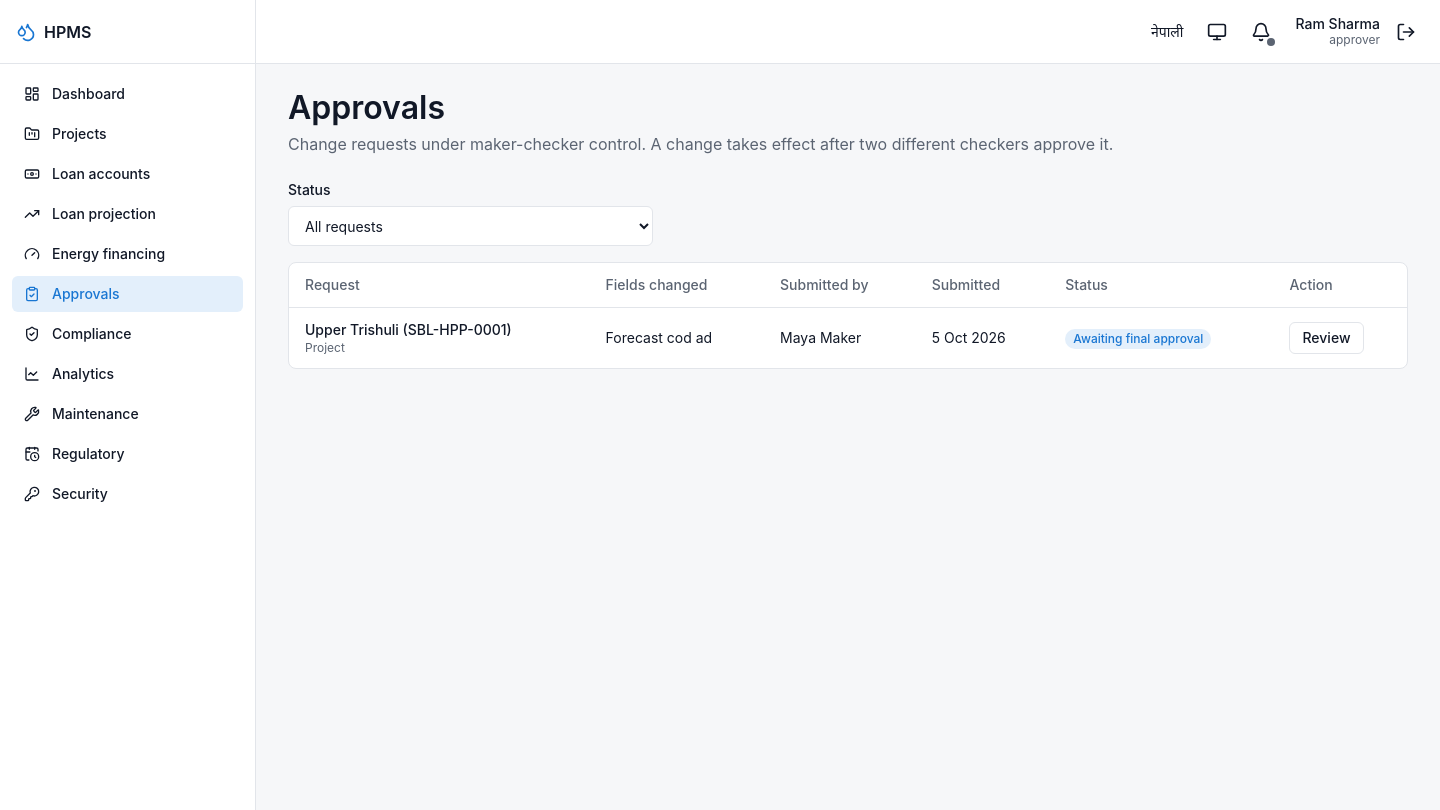
ApprovalQueuePage › keeps the dialog open and shows the server reason when a decision is refused
Click the button "Review" at (1326, 338), box [1290,322,1364,354]
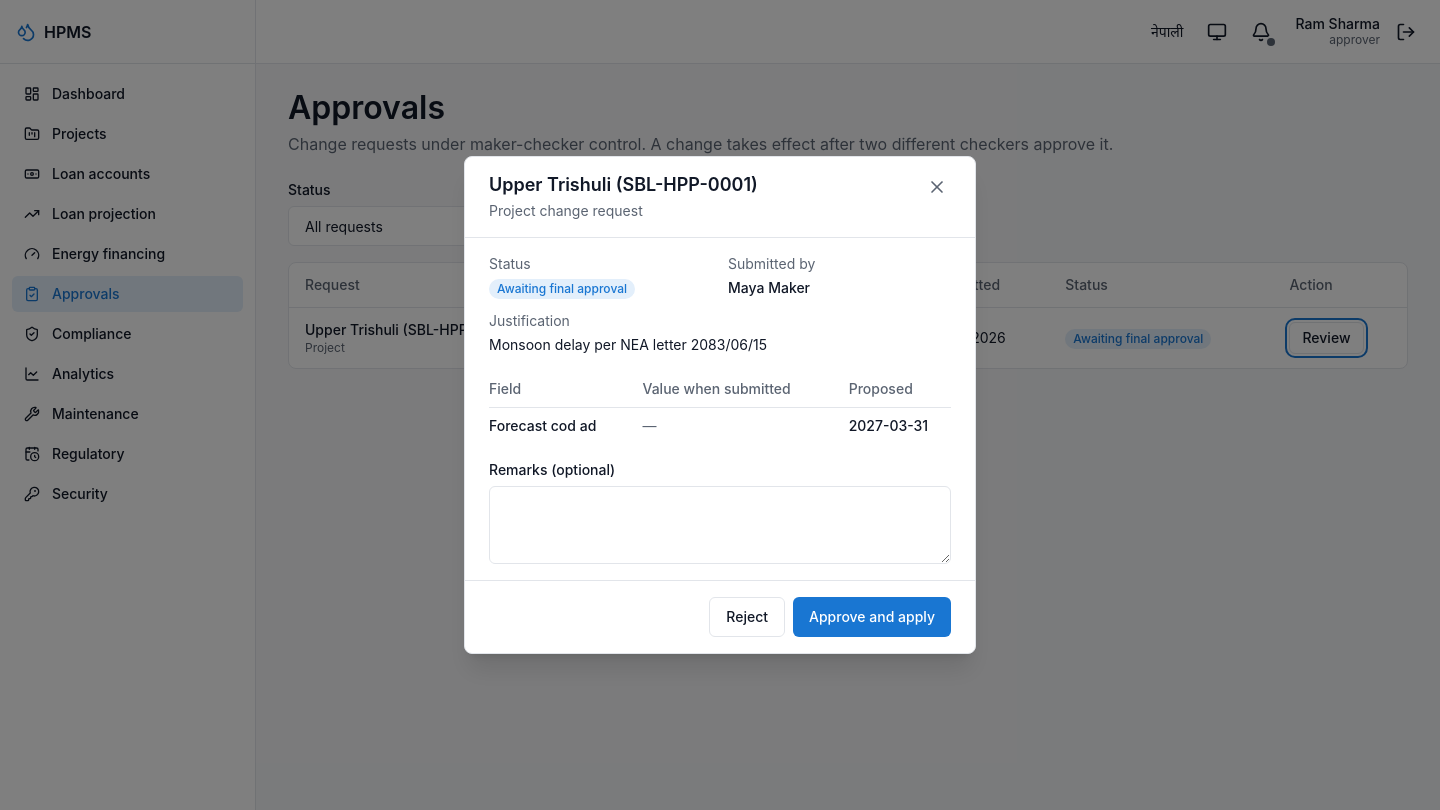
Click the button "Approve and apply" at (872, 617), box [793,597,951,637]
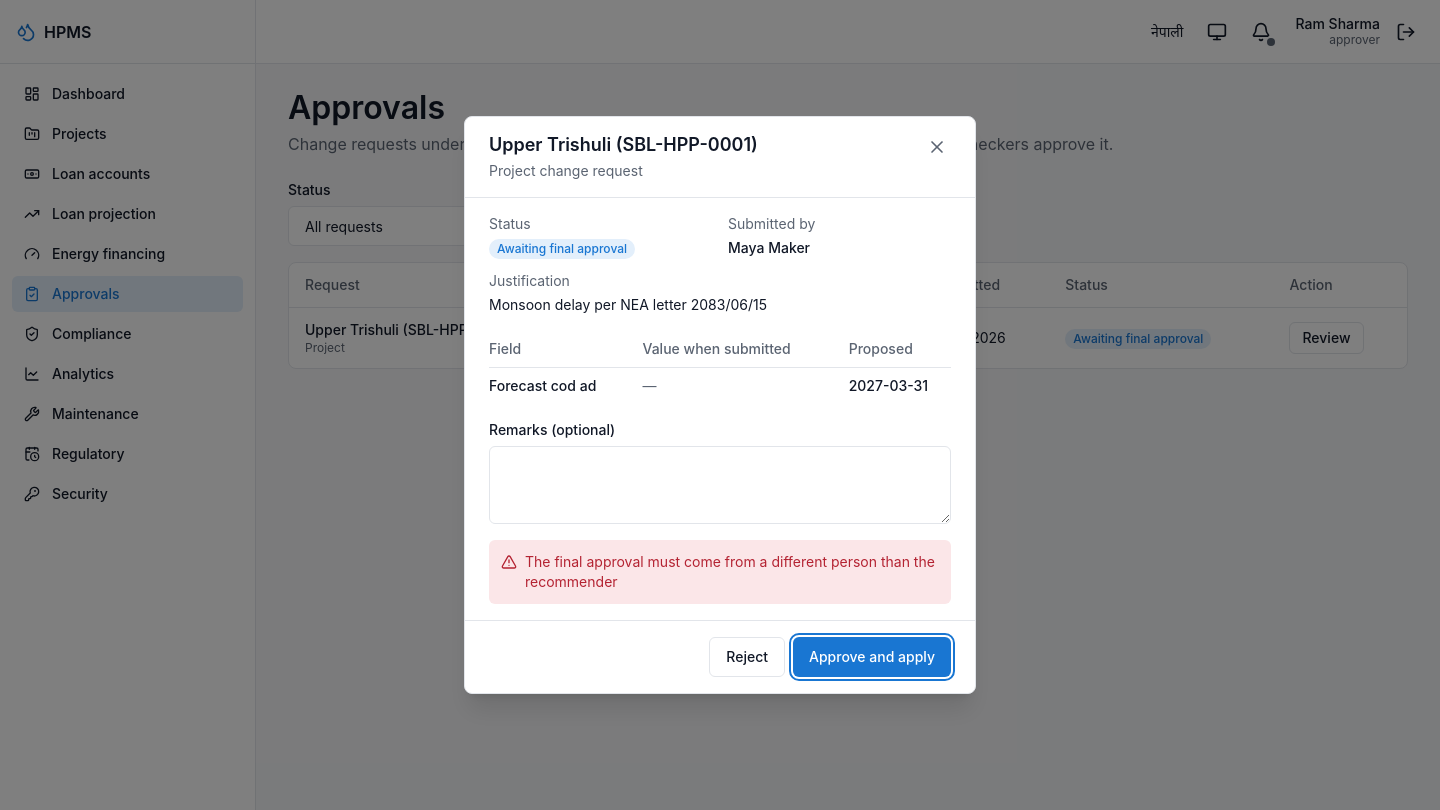
Check: the message reads "The final approval must come from a different person than the recommender", box [525,553,935,590]
